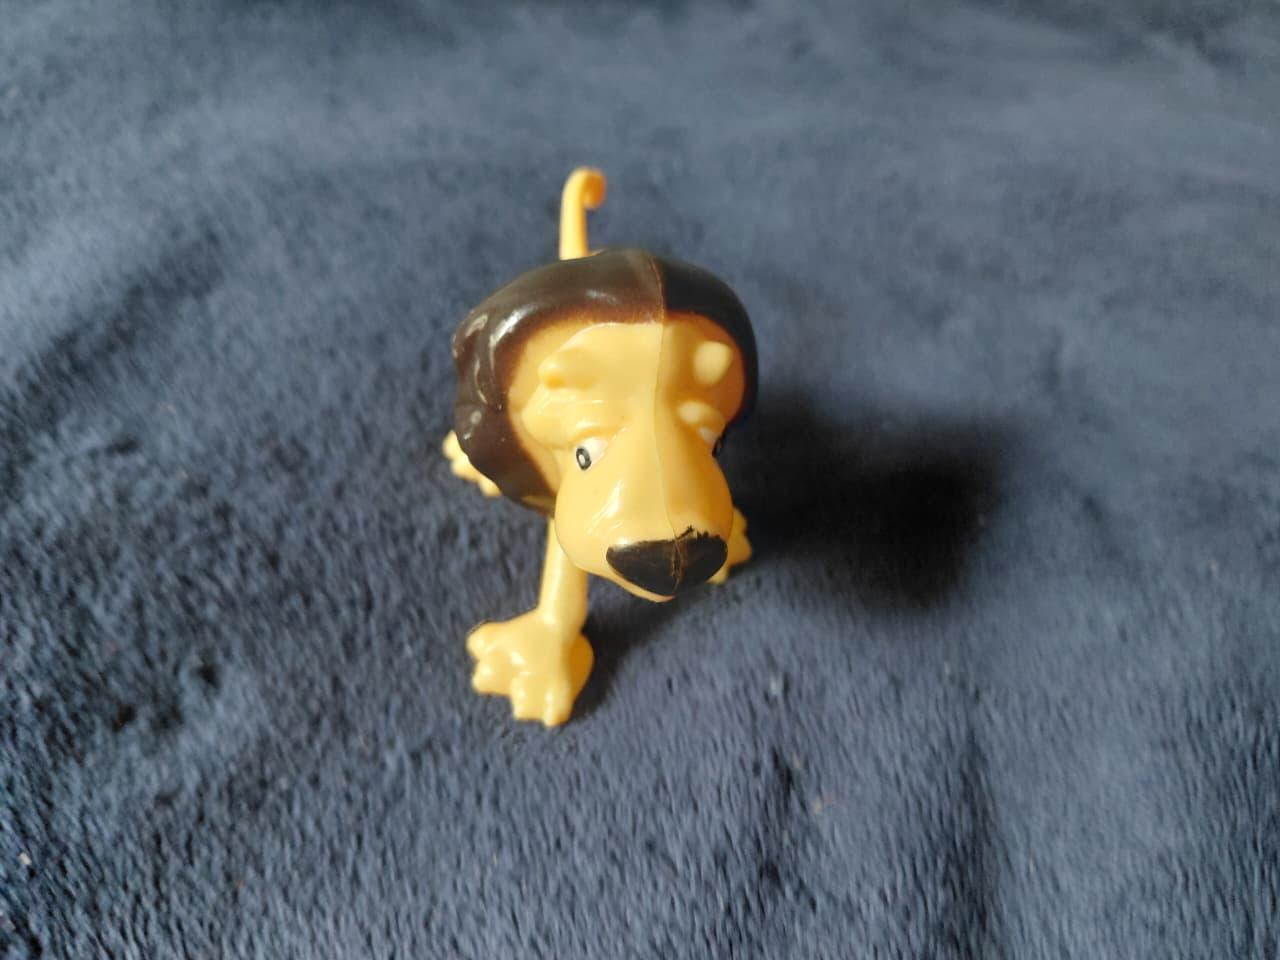lion: (402, 152, 778, 730)
